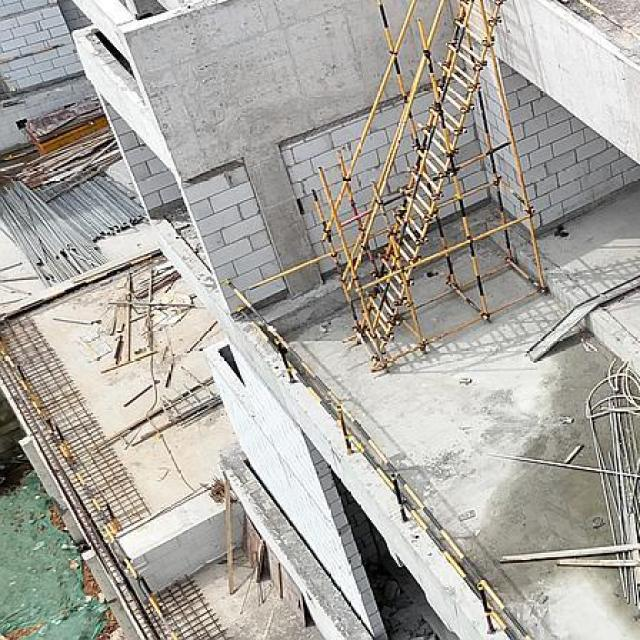edge_guardrail: (226, 280, 534, 640), (3, 352, 117, 538), (111, 540, 178, 640), (577, 0, 640, 41)
